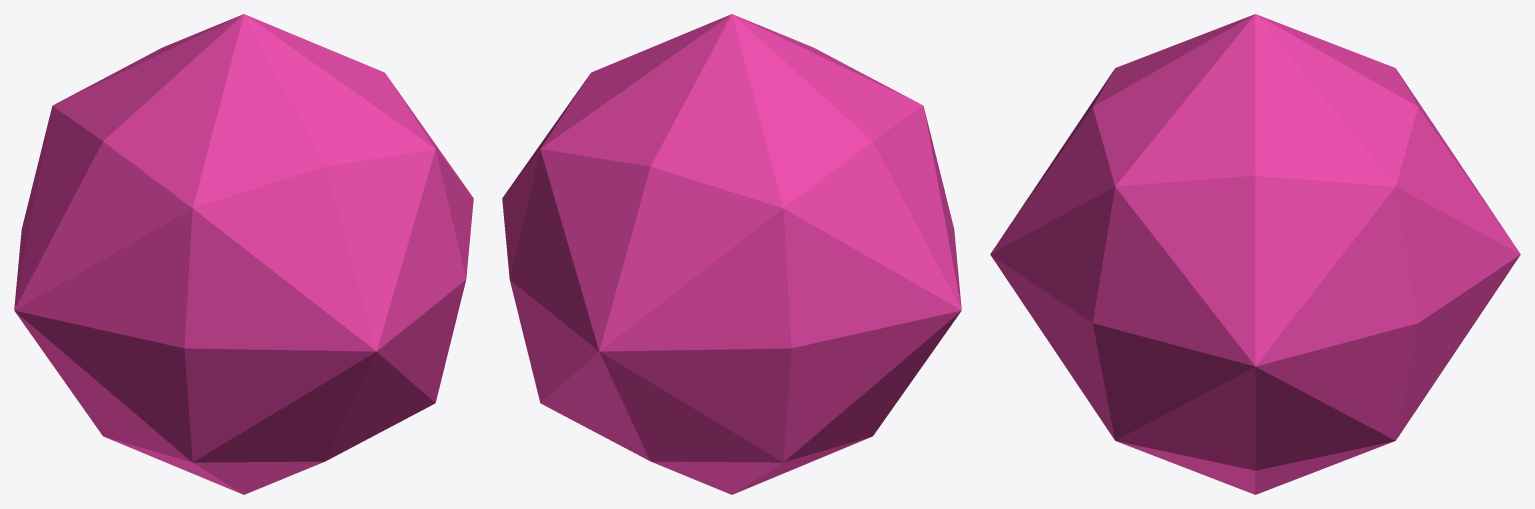
The model's file is disdyakisdodecahedron.gltf.
3 renders of one model, left to right at view 1: azimuth 30°, elevation 25°; view 2: azimuth 150°, elevation 25°; view 3: azimuth 270°, elevation 25°, orthographic.
Visible parts, largest first — view 1: Solid.001; view 2: Solid.001; view 3: Solid.001.
Part boxes in pixels (bbox=[...]): Solid.001: bbox=[14, 14, 473, 494]; Solid.001: bbox=[502, 14, 961, 494]; Solid.001: bbox=[990, 14, 1520, 494].
Size of the model in its own units: 1.26 by 1.26 by 1.26.
